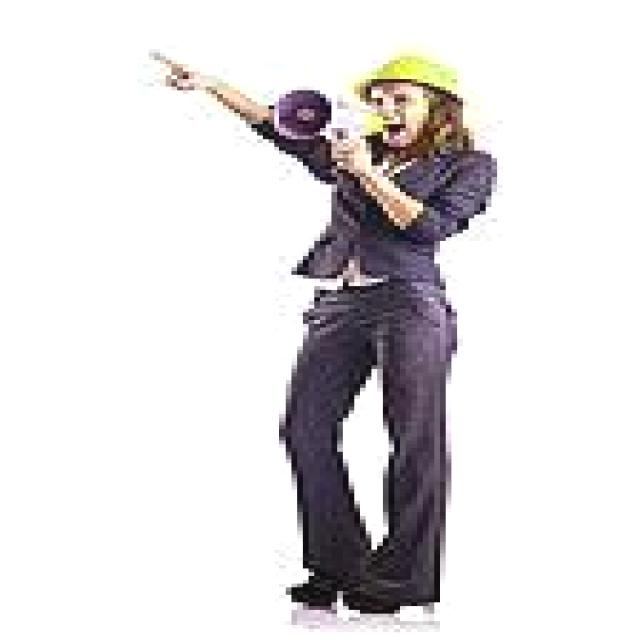face_nomask: (354, 86, 440, 150)
hand_noglove: (143, 56, 228, 102), (320, 136, 389, 180)
head_helmet: (337, 43, 486, 96)
person: (169, 30, 534, 599)
